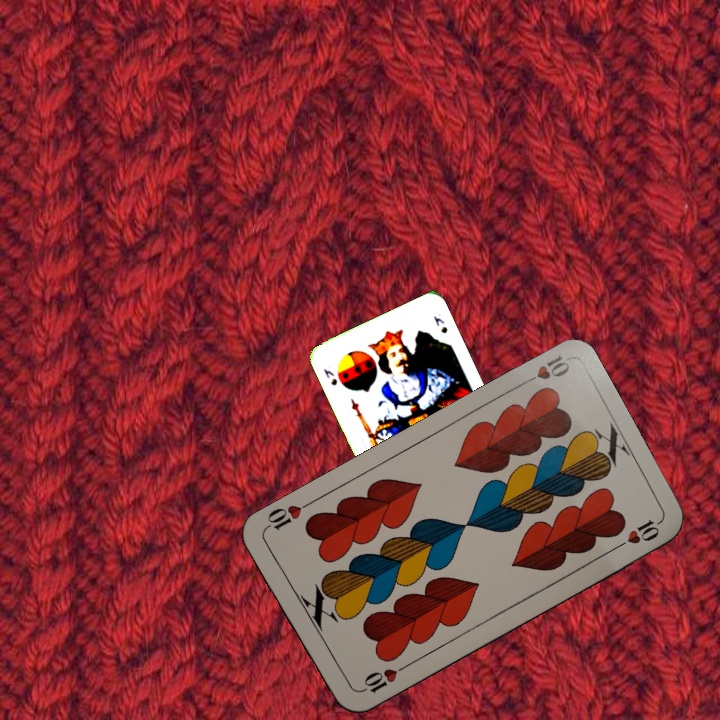H10: (516, 351, 573, 388), (354, 661, 409, 697)
SK: (319, 364, 340, 388)
